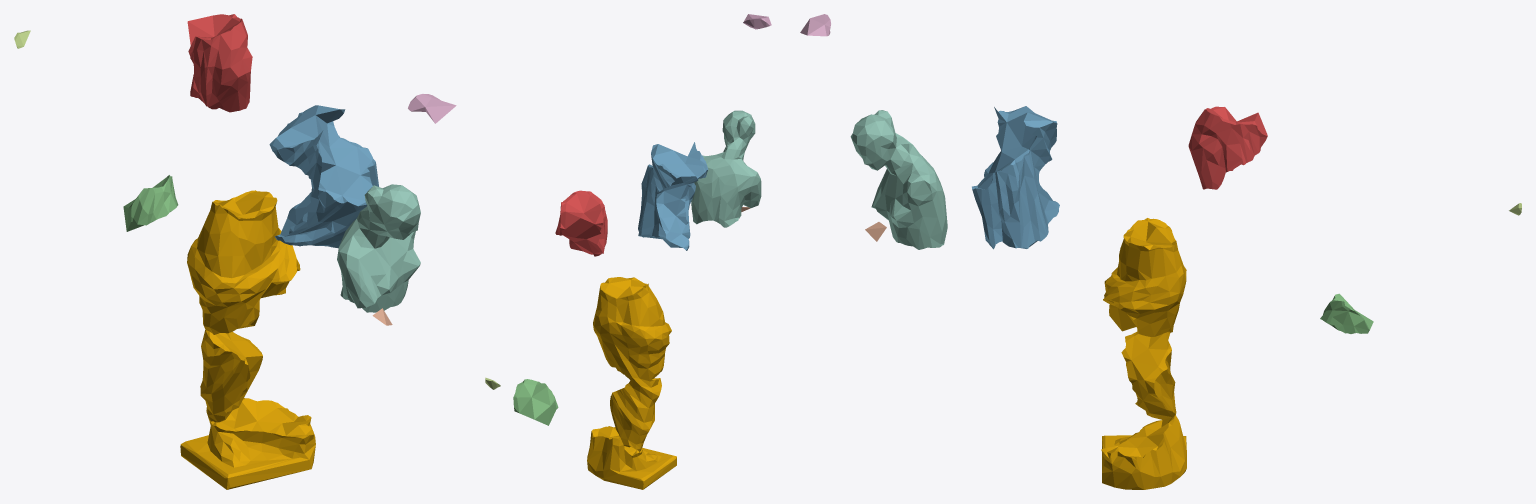
The model's file is fractured_40_8pcs_transformed.glb.
3 renders of one model, left to right at view 1: azimuth 30°, elevation 25°; view 2: azimuth 150°, elevation 25°; view 3: azimuth 270°, elevation 25°, orthographic. The views are drawn at different scales.
Parts seen in each view (by area): view 1: piece_0.obj, piece_2.obj, piece_4.obj, piece_1.obj, piece_3.obj, piece_6.obj; view 2: piece_0.obj, piece_2.obj, piece_4.obj, piece_1.obj, piece_3.obj, piece_6.obj; view 3: piece_0.obj, piece_2.obj, piece_4.obj, piece_1.obj, piece_3.obj.
Boxes of the visible parts, x1,y1,x2,y2 form: piece_0.obj: [180, 190, 315, 489]; piece_2.obj: [269, 105, 378, 248]; piece_4.obj: [337, 184, 420, 312]; piece_1.obj: [187, 14, 252, 112]; piece_3.obj: [123, 175, 178, 231]; piece_6.obj: [408, 94, 456, 123]; piece_0.obj: [587, 277, 676, 489]; piece_2.obj: [638, 142, 708, 250]; piece_4.obj: [691, 110, 761, 227]; piece_1.obj: [555, 190, 607, 256]; piece_3.obj: [513, 379, 558, 425]; piece_6.obj: [743, 14, 771, 29]; piece_0.obj: [1101, 218, 1186, 489]; piece_2.obj: [972, 106, 1059, 249]; piece_4.obj: [850, 110, 947, 249]; piece_1.obj: [1188, 106, 1267, 189]; piece_3.obj: [1320, 293, 1373, 333].
Bounding box in the file's own units: 0.2955 × 1.29 × 1.88.
